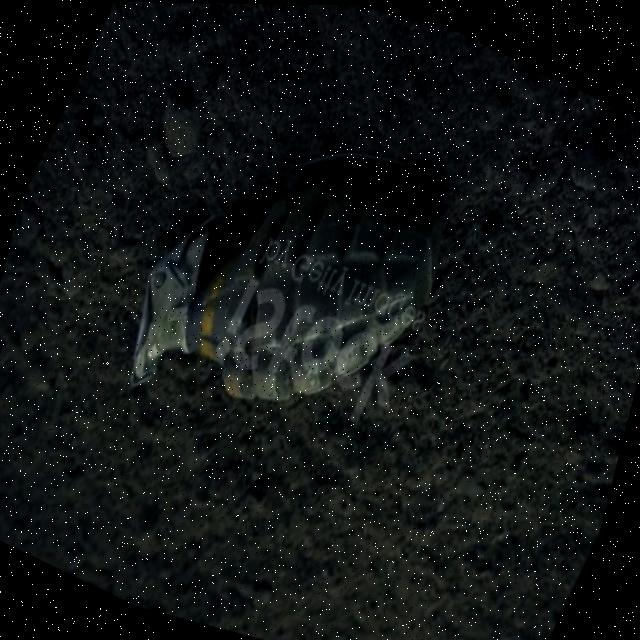grenade: (91, 62, 498, 501)
